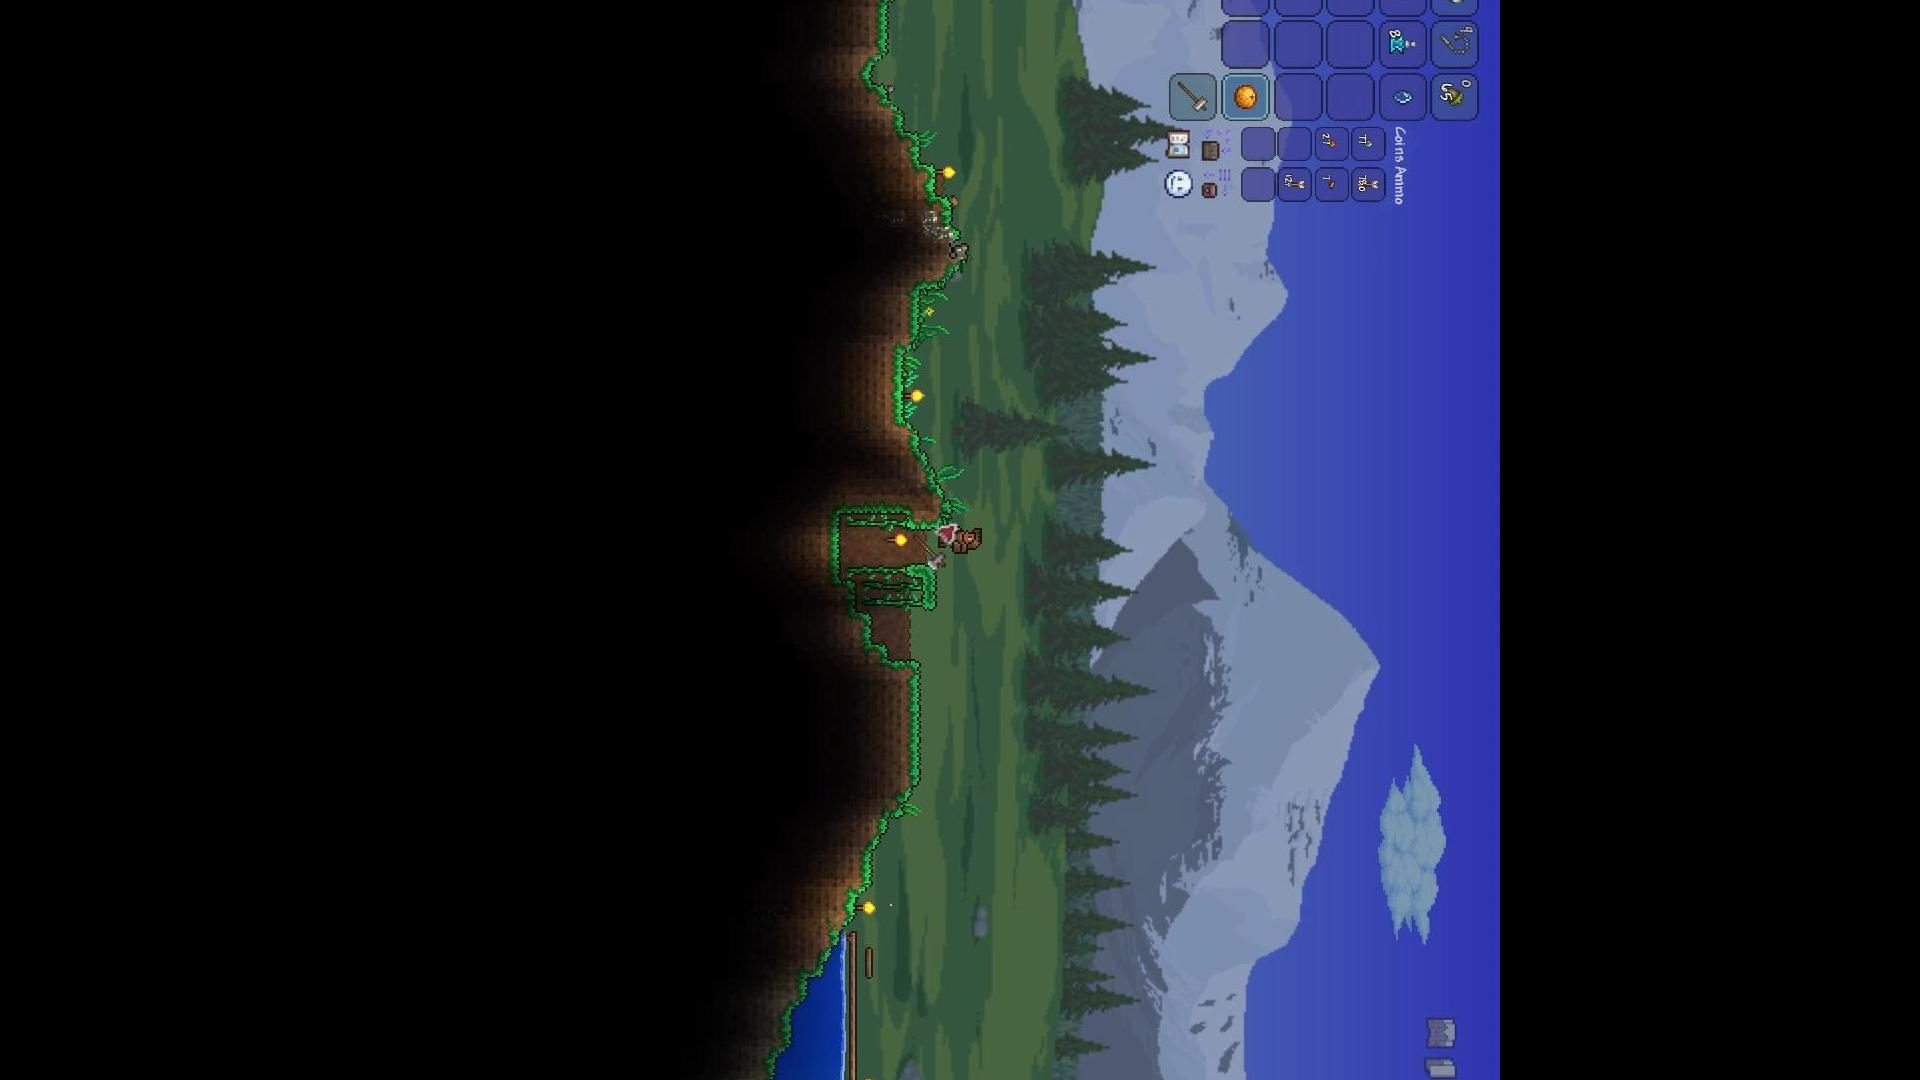recallP: (1385, 30, 1422, 53)
